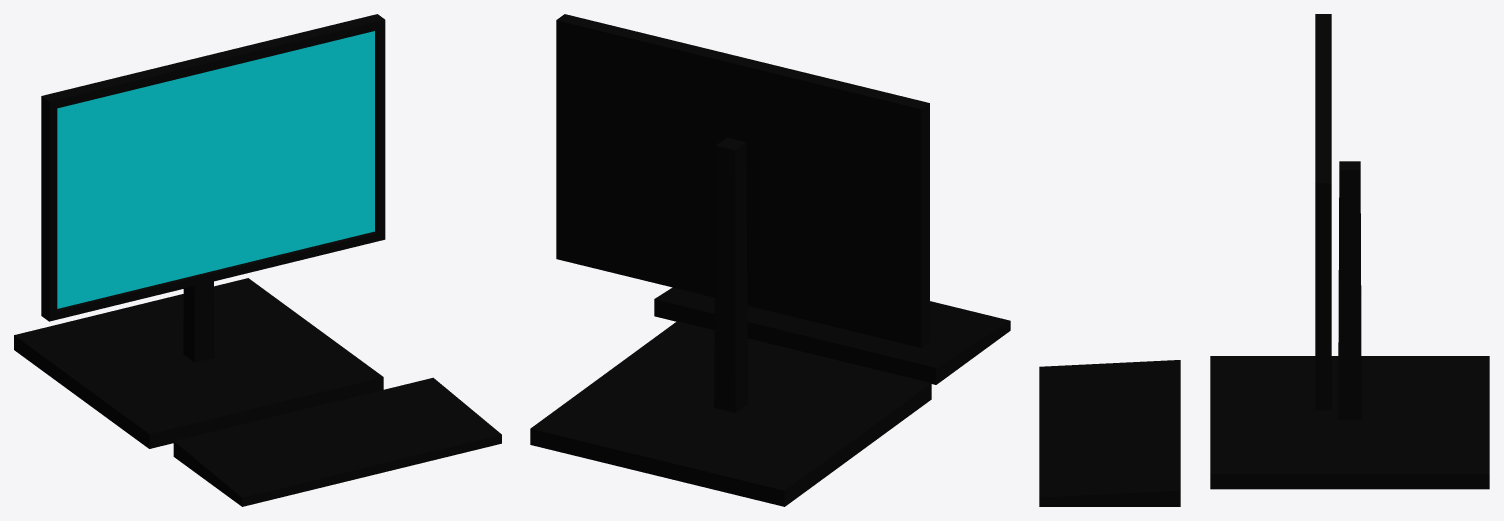
Rendered from computer.fbx.
3 renders of one model, left to right at view 1: azimuth 30°, elevation 25°; view 2: azimuth 150°, elevation 25°; view 3: azimuth 270°, elevation 25°, orthographic. The views are drawn at different scales.
Visible parts, largest first — view 1: Cube.002, Cube.001, Cube; view 2: Cube.002, Cube.001, Cube; view 3: Cube.001, Cube, Cube.002.
Boxes of the visible parts, x1,y1,x2,y2 form: Cube.002: (41,14,385,321); Cube.001: (14,278,383,448); Cube: (173,377,501,506); Cube.002: (556,14,929,347); Cube.001: (530,137,931,506); Cube: (654,287,1010,384); Cube.001: (1210,161,1489,489); Cube: (1039,360,1180,506); Cube.002: (1315,14,1331,410).
Bounding box in the file's own units: 287 × 263 × 322.
